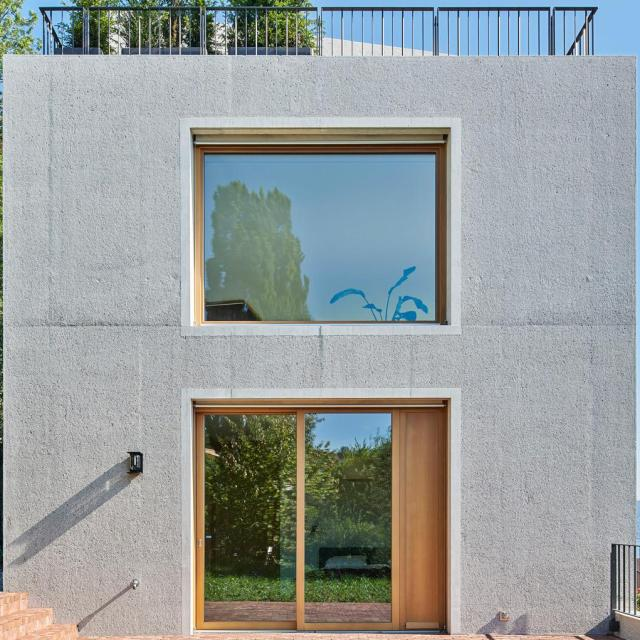door: (195, 411, 399, 639)
railing: (41, 7, 599, 55)
window: (195, 144, 450, 324)
